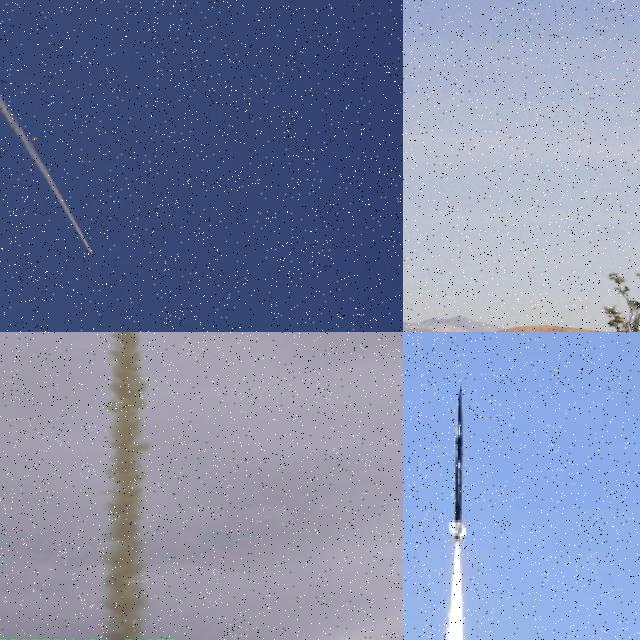Rocket: (447, 377, 469, 547), (90, 252, 94, 257)
